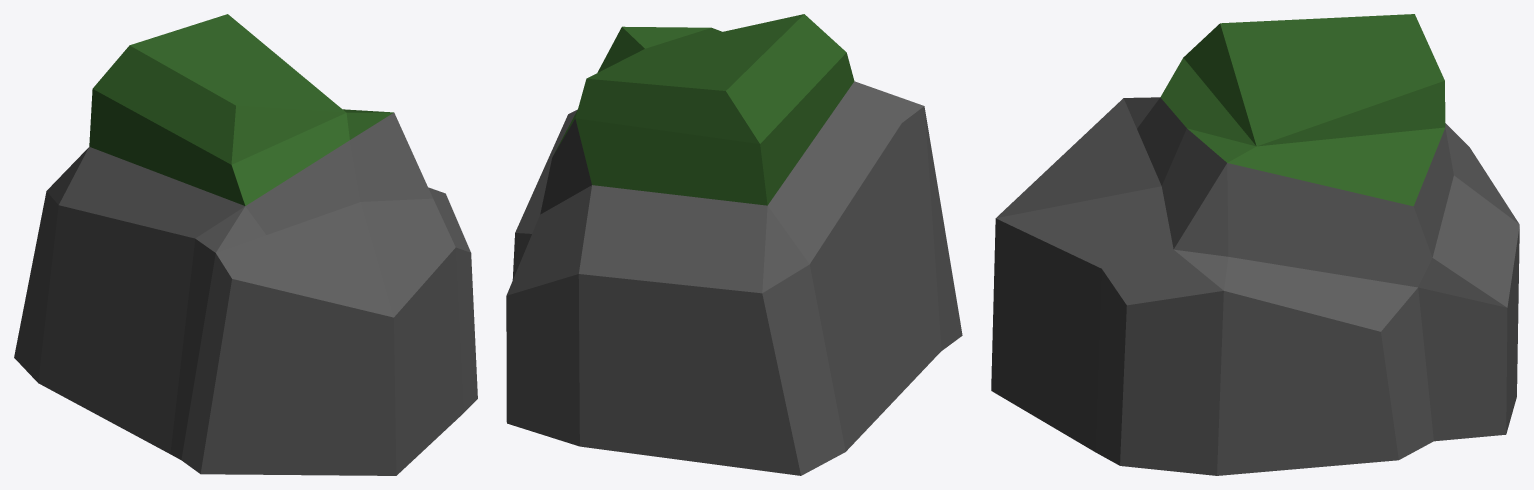
The model's file is Stain_16.fbx.
The picture shows the model from 3 angles, left to right: view 1: azimuth 30°, elevation 25°; view 2: azimuth 150°, elevation 25°; view 3: azimuth 270°, elevation 25°; orthographic projection. The views are drawn at different scales.
Visible parts, largest first — view 1: Rock_Moss_7.001; view 2: Rock_Moss_7.001; view 3: Rock_Moss_7.001.
Part boxes in pixels (<box>): Rock_Moss_7.001: <box>14,14,477,475</box>; Rock_Moss_7.001: <box>506,14,962,475</box>; Rock_Moss_7.001: <box>991,14,1519,475</box>.
Bounding box in the file's own units: 87.55 × 77.39 × 110.
